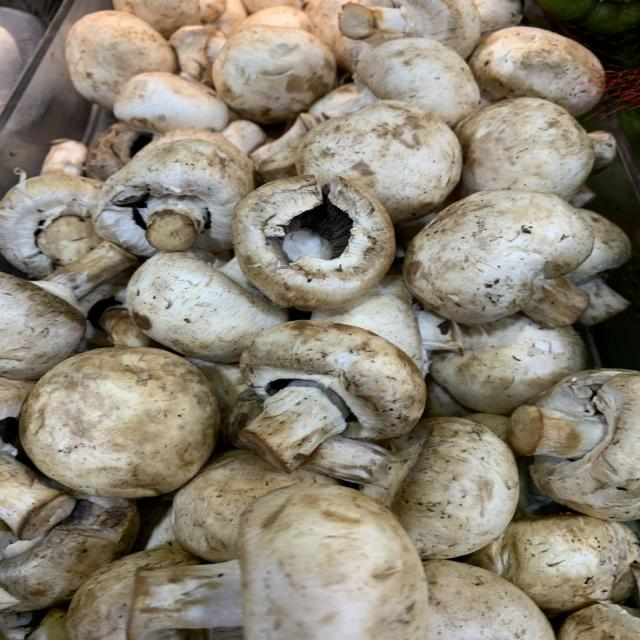champignon mushrooms: (20, 348, 219, 497), (239, 484, 428, 639), (239, 321, 426, 471), (404, 190, 593, 327), (233, 175, 395, 310), (296, 101, 461, 223), (509, 370, 639, 520), (0, 243, 136, 379), (94, 139, 253, 255), (174, 450, 334, 562), (392, 418, 518, 558), (127, 254, 286, 362), (469, 515, 638, 614), (0, 496, 138, 611), (430, 315, 586, 414), (456, 98, 594, 199), (306, 0, 479, 70), (212, 25, 335, 123), (470, 27, 605, 116), (67, 549, 198, 639), (312, 276, 430, 373), (354, 38, 479, 126), (66, 11, 176, 109), (0, 173, 101, 278), (424, 560, 554, 639), (127, 560, 246, 639), (0, 440, 75, 540), (567, 209, 631, 325), (114, 72, 228, 133), (114, 0, 226, 37), (86, 123, 152, 180), (170, 25, 221, 86), (558, 602, 639, 639), (474, 0, 522, 41), (240, 5, 310, 31), (40, 139, 87, 175)
